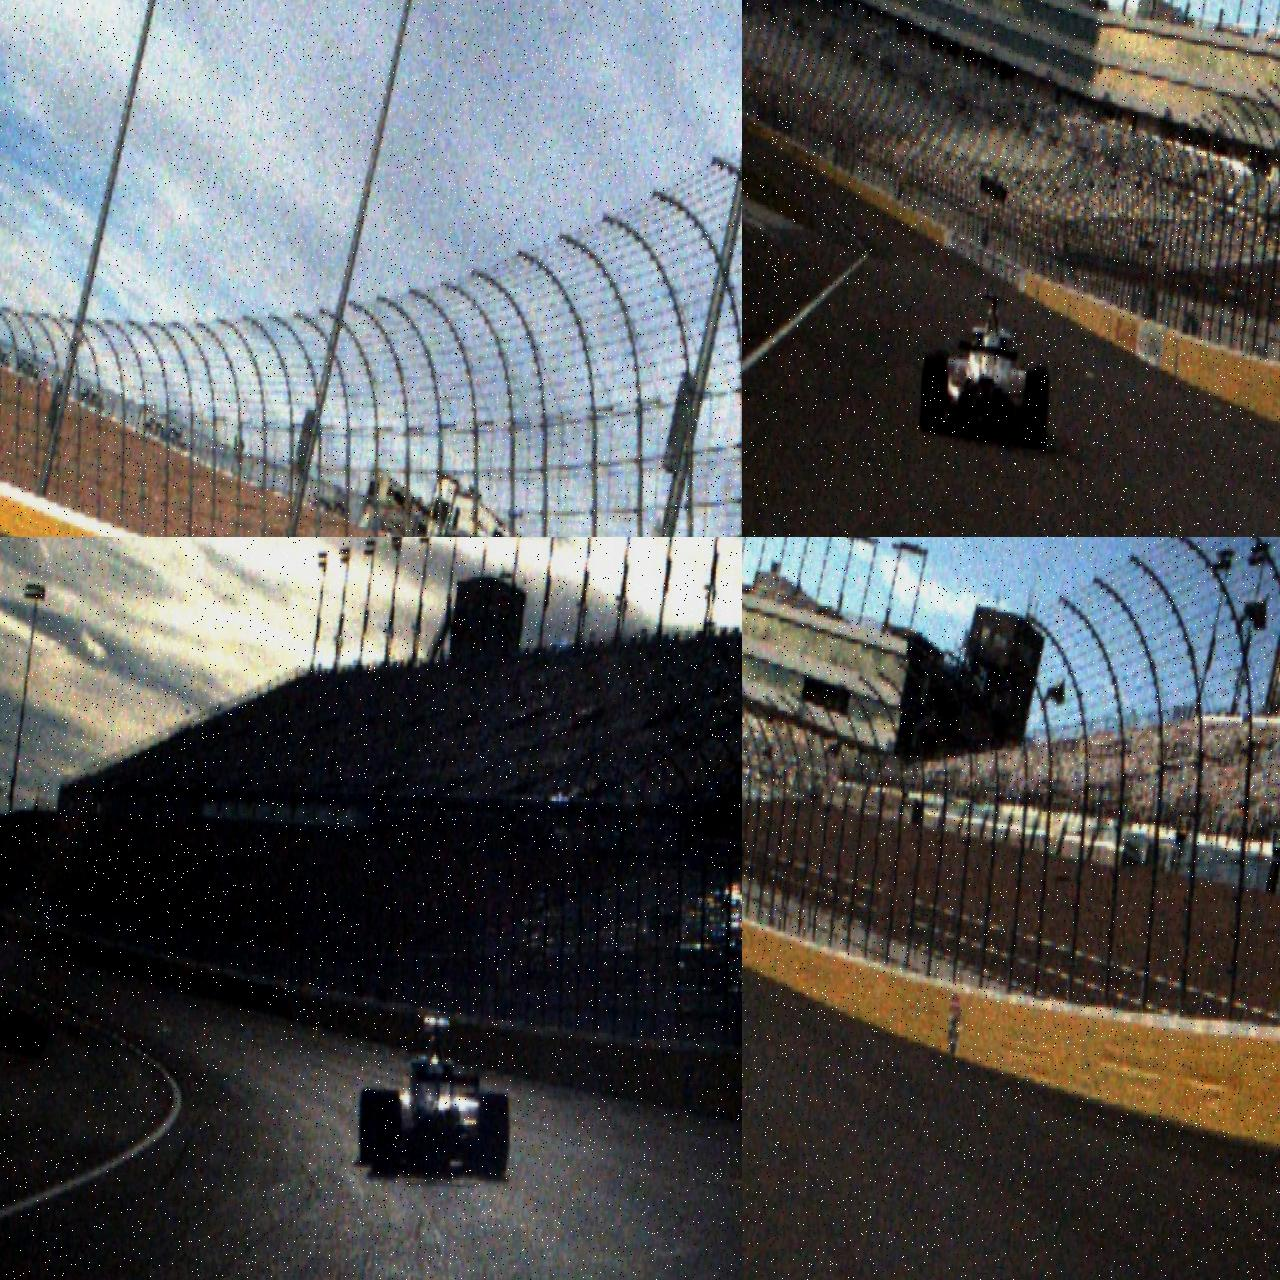AV: (355, 1014, 513, 1182), (919, 290, 1053, 452)
Wheel: (478, 1091, 509, 1179), (370, 1094, 401, 1178), (920, 352, 948, 435), (1022, 366, 1049, 451), (356, 1087, 382, 1166)
